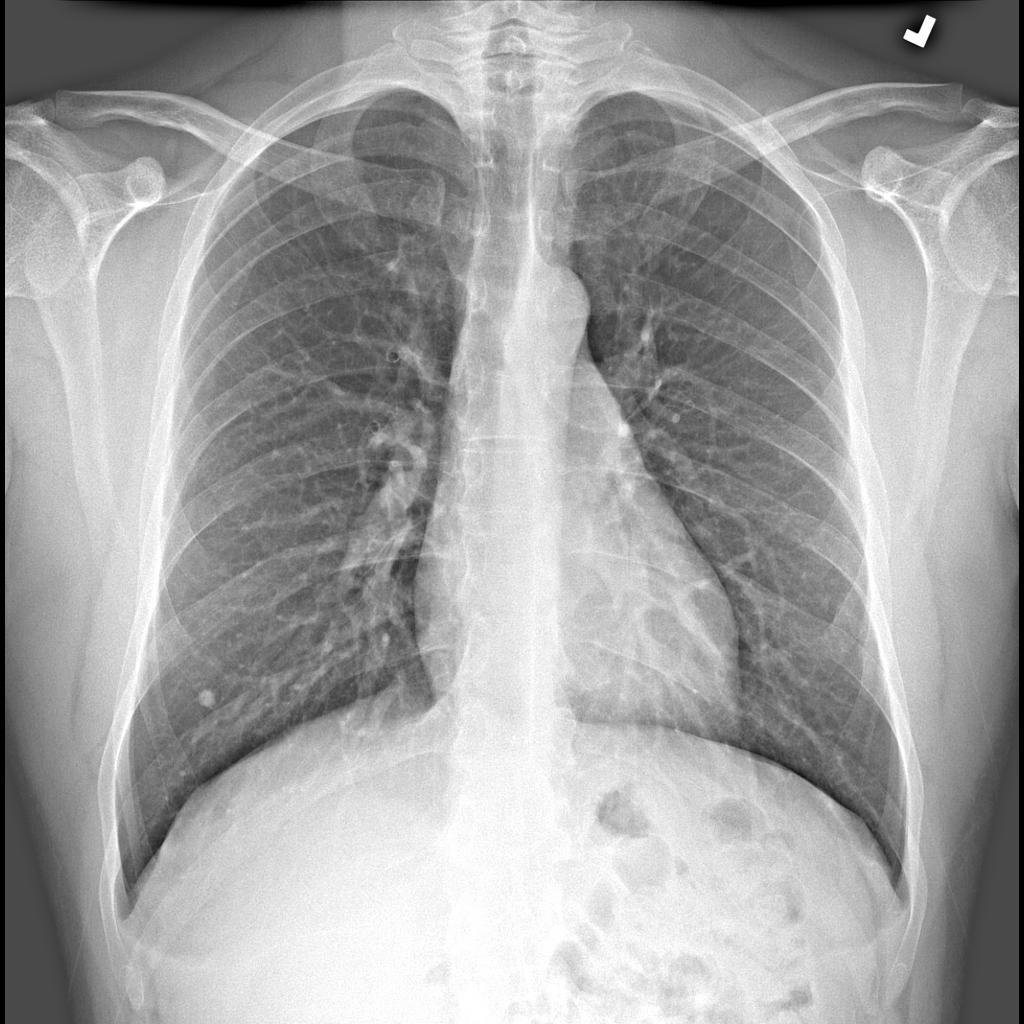Nodule: (192, 687, 220, 719)
